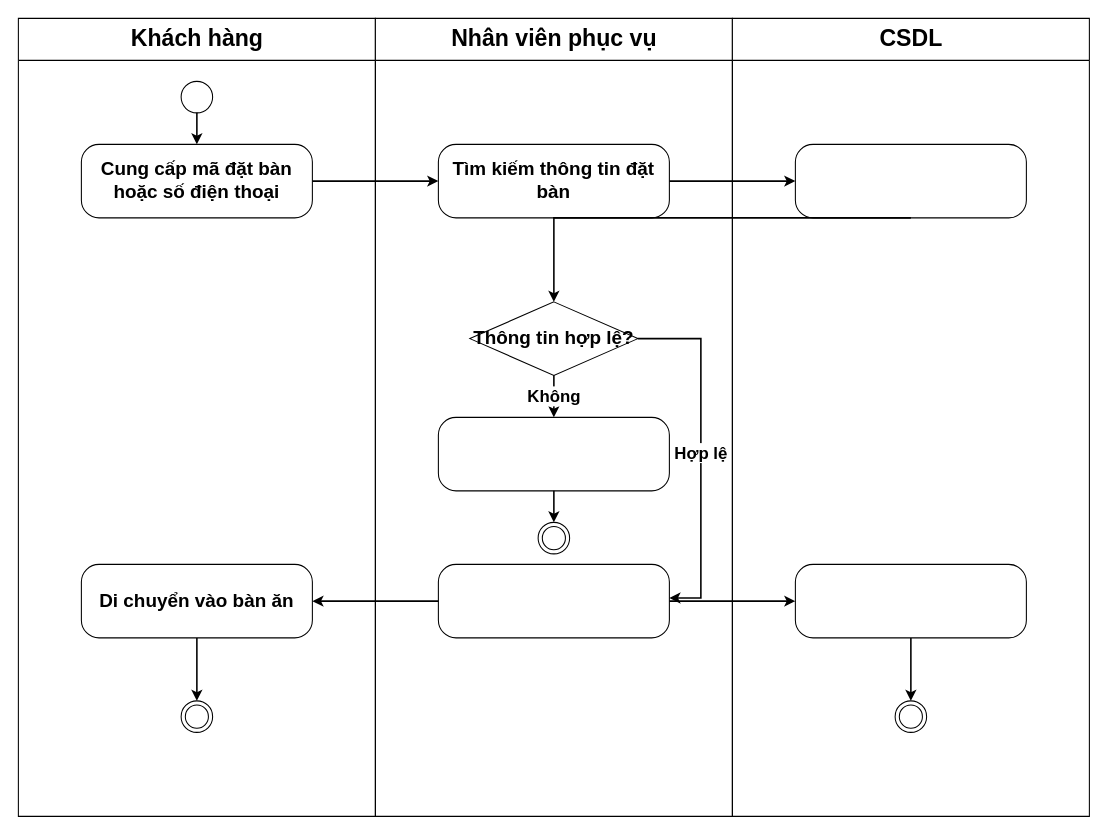
Image size: 1108x835. Some labels were removed from this diagram. The shapes that lost their labels are listed below. From the top down, each one's centre as x and y in pixels, then its label:
(x=910, y=180): Truy vấn đơn đặt bàn & trả về kết quả đối chiếu
(x=553, y=453): Thông báo không tìm thấy thông tin
(x=553, y=600): Bấm xác nhận Check-in & dẫn khách vào bàn
(x=910, y=600): Cập nhật trạng thái bàn sang Đang phục vụ (Occupied)
